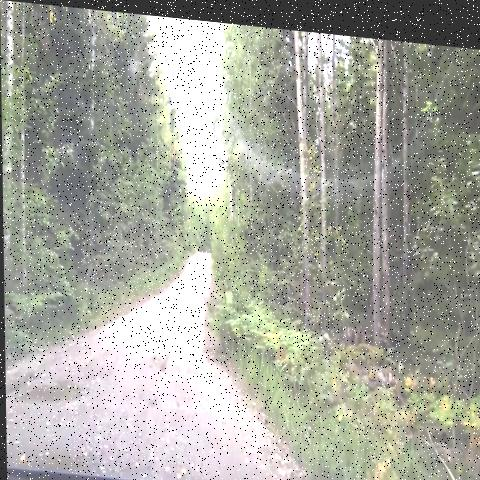pothole: (8, 363, 88, 420)
